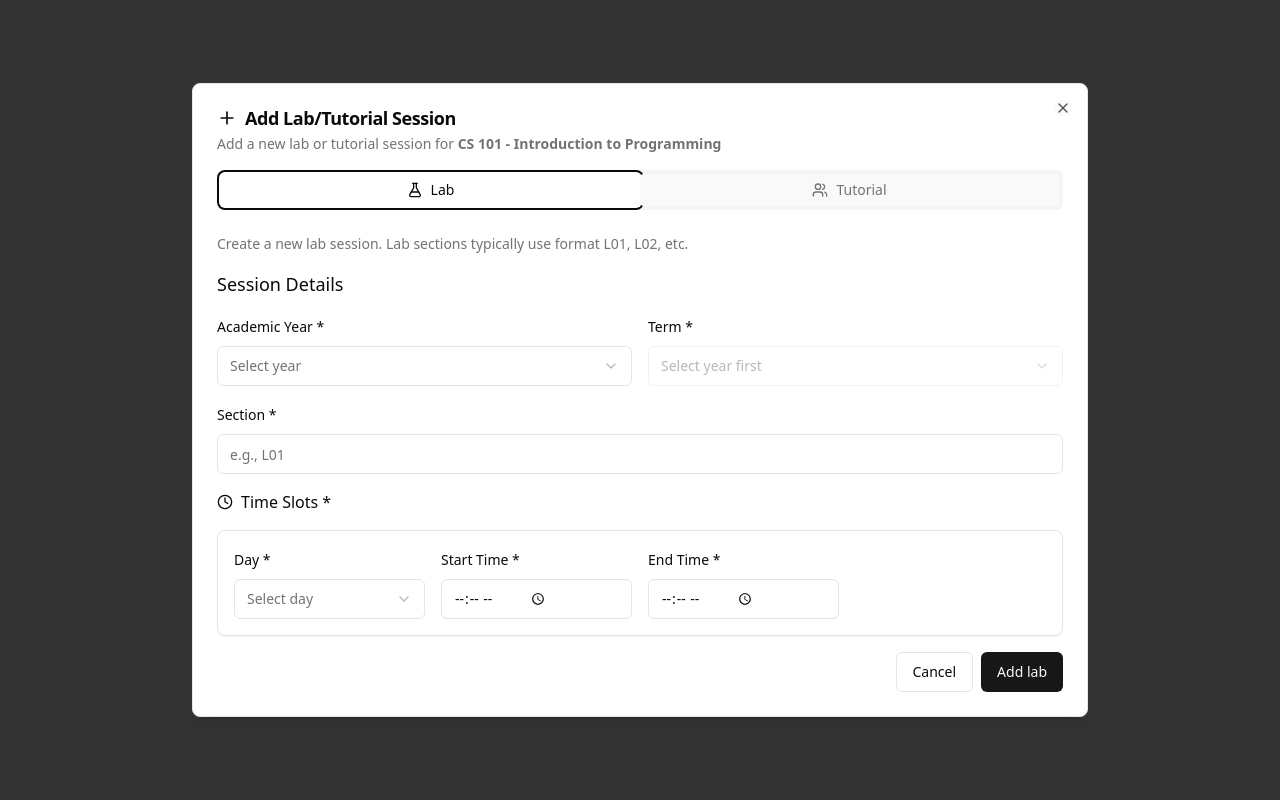
Test: AddLabTutorialModal › switches between lab and tutorial tabs
expect the button "Add lab" is shown: met, box top-left (981, 652), bottom-right (1063, 692)
expect the field with placeholder "e.g., L01" is shown: met, box top-left (217, 434), bottom-right (1063, 474)
Note: Switch to tutorial tab
Step 1. Click the tab "Tutorial" → (850,190), box top-left (640, 174), bottom-right (1059, 206)
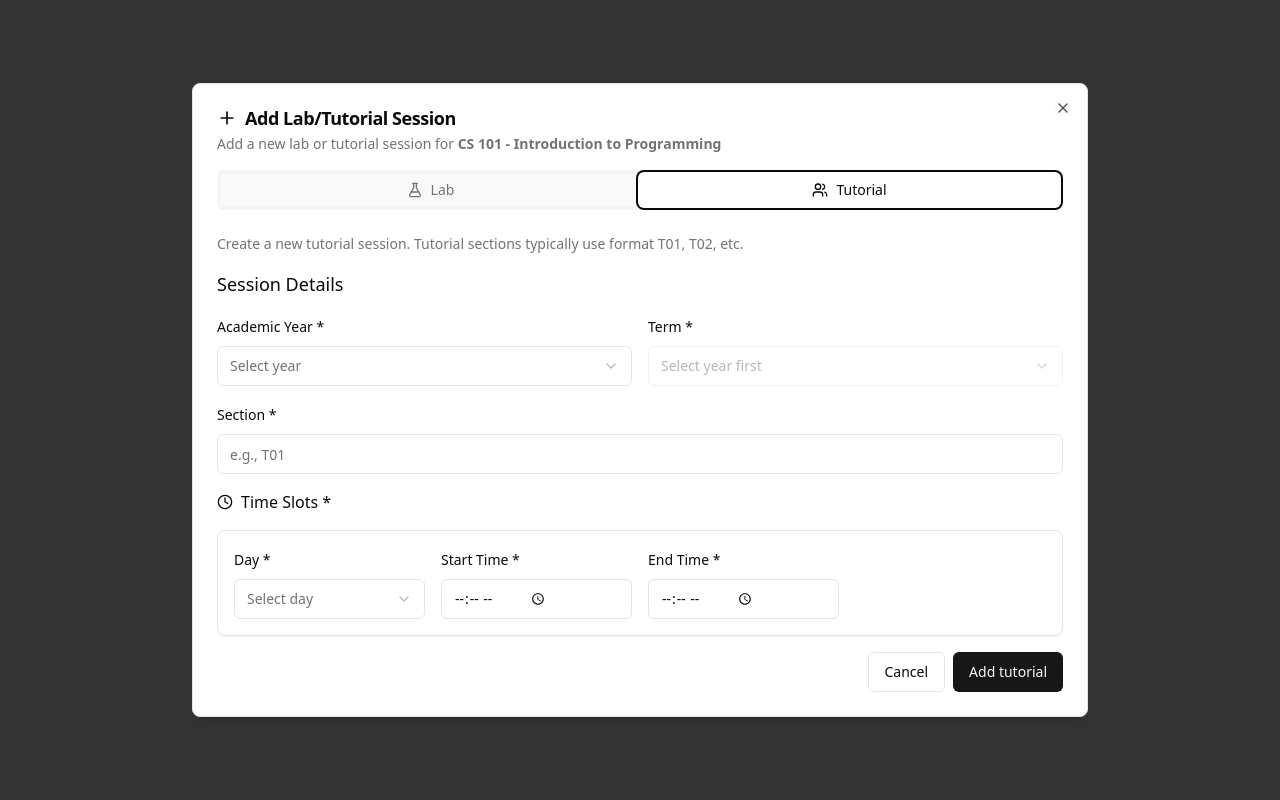
expect the button "Add tutorial" is shown: met, box top-left (953, 652), bottom-right (1063, 692)
expect the field with placeholder "e.g., T01" is shown: met, box top-left (217, 434), bottom-right (1063, 474)
